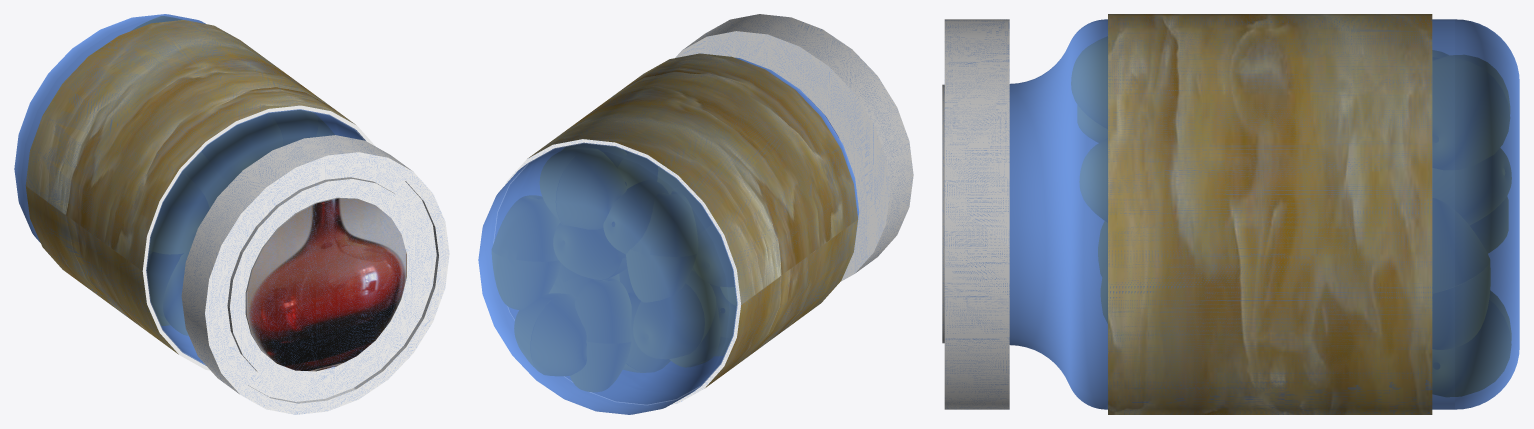
The model's file is model_scale.obj.
The picture shows the model from 3 angles, left to right: view 1: azimuth 30°, elevation 25°; view 2: azimuth 150°, elevation 25°; view 3: azimuth 270°, elevation 25°; orthographic projection. The views are drawn at different scales.
Parts seen in each view (by area): view 1: mesh33_mesh33-geometry, mesh34_mesh34-geometry, mesh28_mesh28-geometry, mesh27_mesh27-geometry, mesh29_mesh29-geometry, mesh19_mesh19-geometry, mesh32_mesh32-geometry, mesh31_mesh31-geometry; view 2: mesh33_mesh33-geometry, mesh34_mesh34-geometry, mesh1_mesh1-geometry, mesh7_mesh7-geometry, mesh5_mesh5-geometry, mesh8_mesh8-geometry, mesh6_mesh6-geometry, mesh4_mesh4-geometry, mesh2_mesh2-geometry, mesh3_mesh3-geometry, mesh12_mesh12-geometry, mesh16_mesh16-geometry (+6 smaller); view 3: mesh34_mesh34-geometry, mesh33_mesh33-geometry, mesh5_mesh5-geometry, mesh1_mesh1-geometry, mesh6_mesh6-geometry, mesh2_mesh2-geometry, mesh27_mesh27-geometry, mesh26_mesh26-geometry, mesh4_mesh4-geometry, mesh28_mesh28-geometry.
Part boxes in pixels (x1,y1,x2,y2): mesh33_mesh33-geometry: (14, 14, 449, 414); mesh34_mesh34-geometry: (25, 20, 375, 370); mesh28_mesh28-geometry: (149, 174, 209, 254); mesh27_mesh27-geometry: (202, 114, 283, 182); mesh29_mesh29-geometry: (269, 110, 334, 145); mesh19_mesh19-geometry: (147, 251, 182, 316); mesh32_mesh32-geometry: (163, 252, 188, 335); mesh31_mesh31-geometry: (182, 152, 229, 232); mesh33_mesh33-geometry: (478, 14, 913, 414); mesh34_mesh34-geometry: (493, 53, 857, 404); mesh1_mesh1-geometry: (492, 195, 561, 309); mesh7_mesh7-geometry: (626, 191, 697, 302); mesh5_mesh5-geometry: (540, 148, 626, 229); mesh8_mesh8-geometry: (570, 278, 631, 391); mesh6_mesh6-geometry: (514, 293, 586, 375); mesh4_mesh4-geometry: (633, 274, 715, 358); mesh2_mesh2-geometry: (553, 223, 626, 280); mesh3_mesh3-geometry: (603, 180, 671, 253); mesh12_mesh12-geometry: (693, 224, 734, 286); mesh16_mesh16-geometry: (670, 271, 720, 367); mesh34_mesh34-geometry: (1108, 14, 1432, 414); mesh33_mesh33-geometry: (942, 19, 1519, 409); mesh5_mesh5-geometry: (1432, 55, 1509, 169); mesh1_mesh1-geometry: (1432, 198, 1490, 349); mesh6_mesh6-geometry: (1432, 291, 1511, 396); mesh2_mesh2-geometry: (1432, 136, 1511, 224); mesh27_mesh27-geometry: (1071, 36, 1107, 128); mesh26_mesh26-geometry: (1079, 138, 1107, 221); mesh4_mesh4-geometry: (1470, 197, 1508, 252); mesh28_mesh28-geometry: (1077, 105, 1106, 142).
Size of the model in its own units: 0.1423 by 0.1423 by 0.2042.
